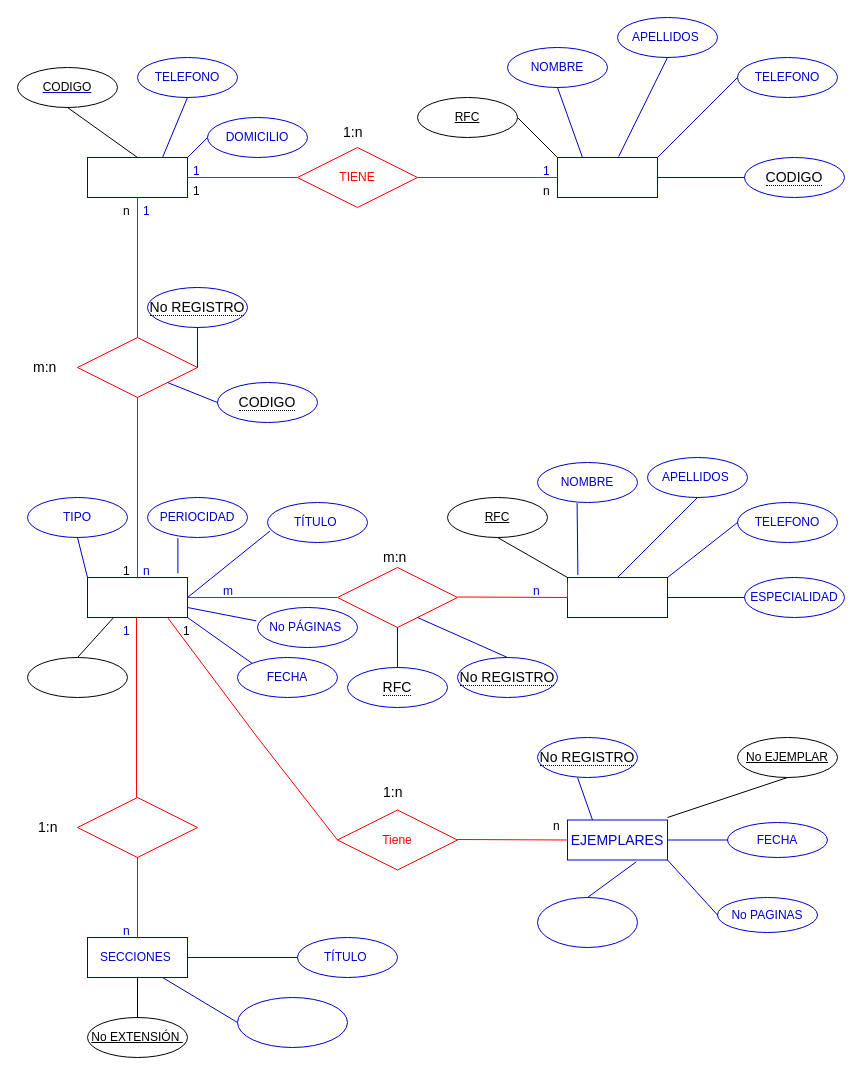
This 862x1075 diagram has some shape labels left out. Each missing label, with the centre of its shape:
"Contiene" belongs at (137,827).
"EMPLEADOS" belongs at (607,177).
"ESCRIBIR" belongs at (397,597).
"No EJEMPLARES VENDIDOS" belongs at (587,922).
"No REG_REVIS" belongs at (292,1022).
"No REGISTRÓ" belongs at (77,677).
"PERIODISTAS" belongs at (617,597).
"PUBLICAR" belongs at (137,367).
"REVISTAS" belongs at (137,597).
"SUCURSALES" belongs at (137,177).
